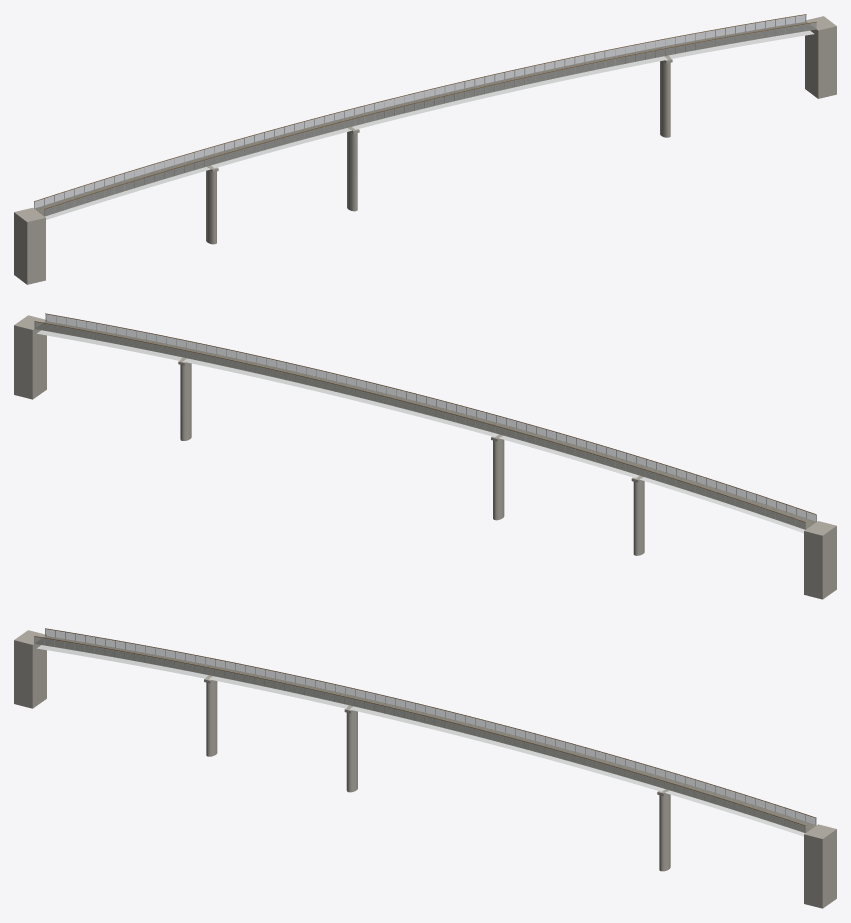
Rendered from tekapo-footbridge.glb.
3 renders of one model, top to bottom at view 1: azimuth 30°, elevation 25°; view 2: azimuth 150°, elevation 25°; view 3: azimuth 330°, elevation 25°, orthographic.
Parts seen in each view (by area): view 1: Tekapo_footbridge; view 2: Tekapo_footbridge; view 3: Tekapo_footbridge.
Boxes of the visible parts, bbox=[...] form: Tekapo_footbridge: bbox=[14, 14, 836, 284]; Tekapo_footbridge: bbox=[14, 313, 836, 599]; Tekapo_footbridge: bbox=[14, 628, 836, 908].
Size of the model in its own units: 129 by 14.77 by 5.87.
6 materials, 1 textured.
